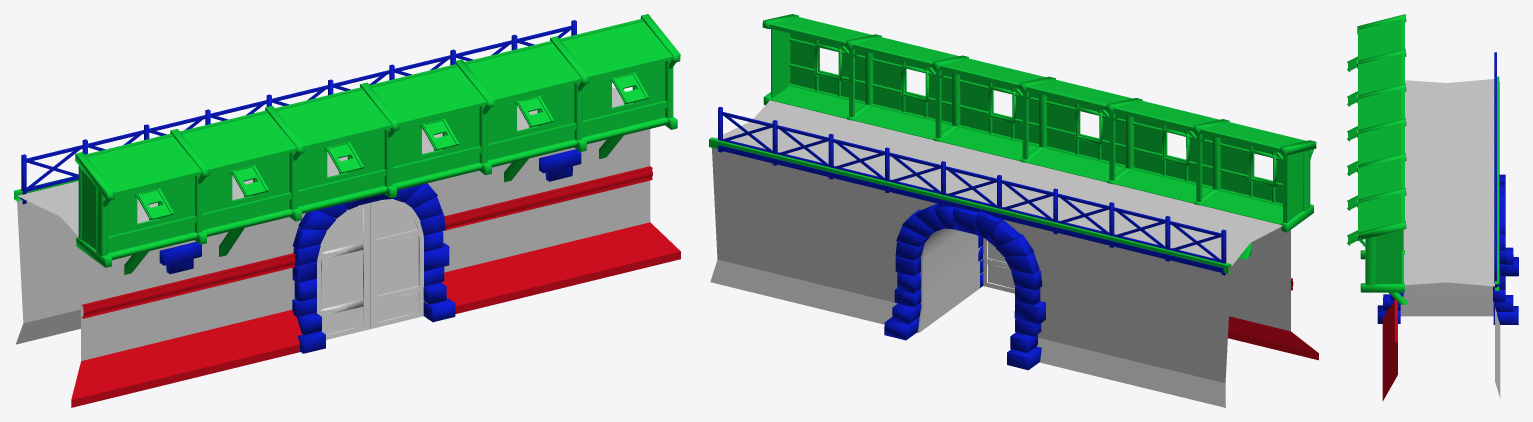
The model's file is Wall_Goal_v2 (1).fbx.
3 renders of one model, left to right at view 1: azimuth 30°, elevation 25°; view 2: azimuth 150°, elevation 25°; view 3: azimuth 270°, elevation 25°, orthographic. The views are drawn at different scales.
Parts seen in each view (by area): view 1: Group_4.015, Group_4.028, Group_3.013, Group_3.012, Group_3.011, Group_4.035, Group_4.011, Group_4.010, Group_4.012, Group_4.013, Group_4.007; view 2: Group_4.015, Group_4.028, Group_3.011, Group_3.013; view 3: Group_4.015, Group_4.028, Group_3.011.
Part boxes in pixels (x1,y1,x2,y2): Group_4.015: (14, 87, 680, 407); Group_4.028: (75, 14, 680, 274); Group_3.013: (370, 199, 423, 328); Group_3.012: (316, 203, 370, 339); Group_3.011: (19, 20, 576, 204); Group_4.035: (612, 72, 649, 104); Group_4.011: (327, 142, 363, 173); Group_4.010: (232, 165, 269, 197); Group_4.012: (422, 119, 458, 150); Group_4.013: (517, 96, 554, 127); Group_4.007: (137, 188, 173, 220); Group_4.015: (709, 100, 1318, 407); Group_4.028: (762, 14, 1316, 259); Group_3.011: (718, 107, 1226, 275); Group_3.013: (983, 238, 1015, 293); Group_4.015: (1377, 76, 1518, 401); Group_4.028: (1357, 14, 1407, 304); Group_3.011: (1493, 52, 1499, 290).
Size of the model in its own units: 2058 by 769 by 671.
